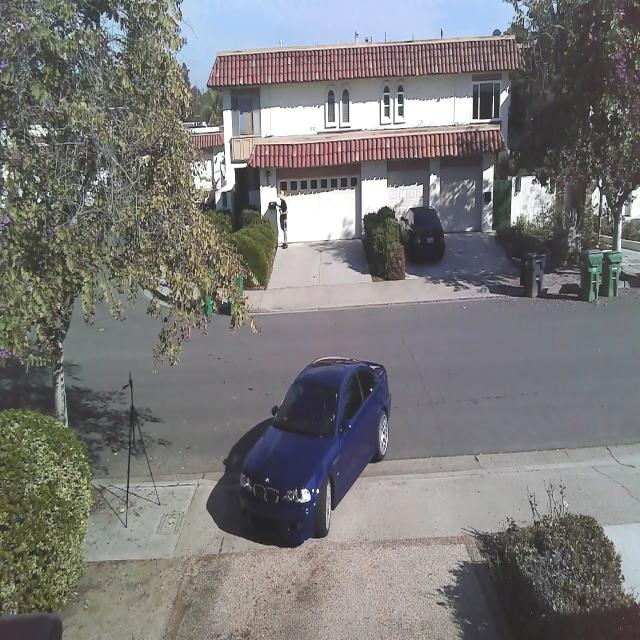Carbeetle: (232, 349, 397, 549)
Civilian: (399, 205, 445, 263)
